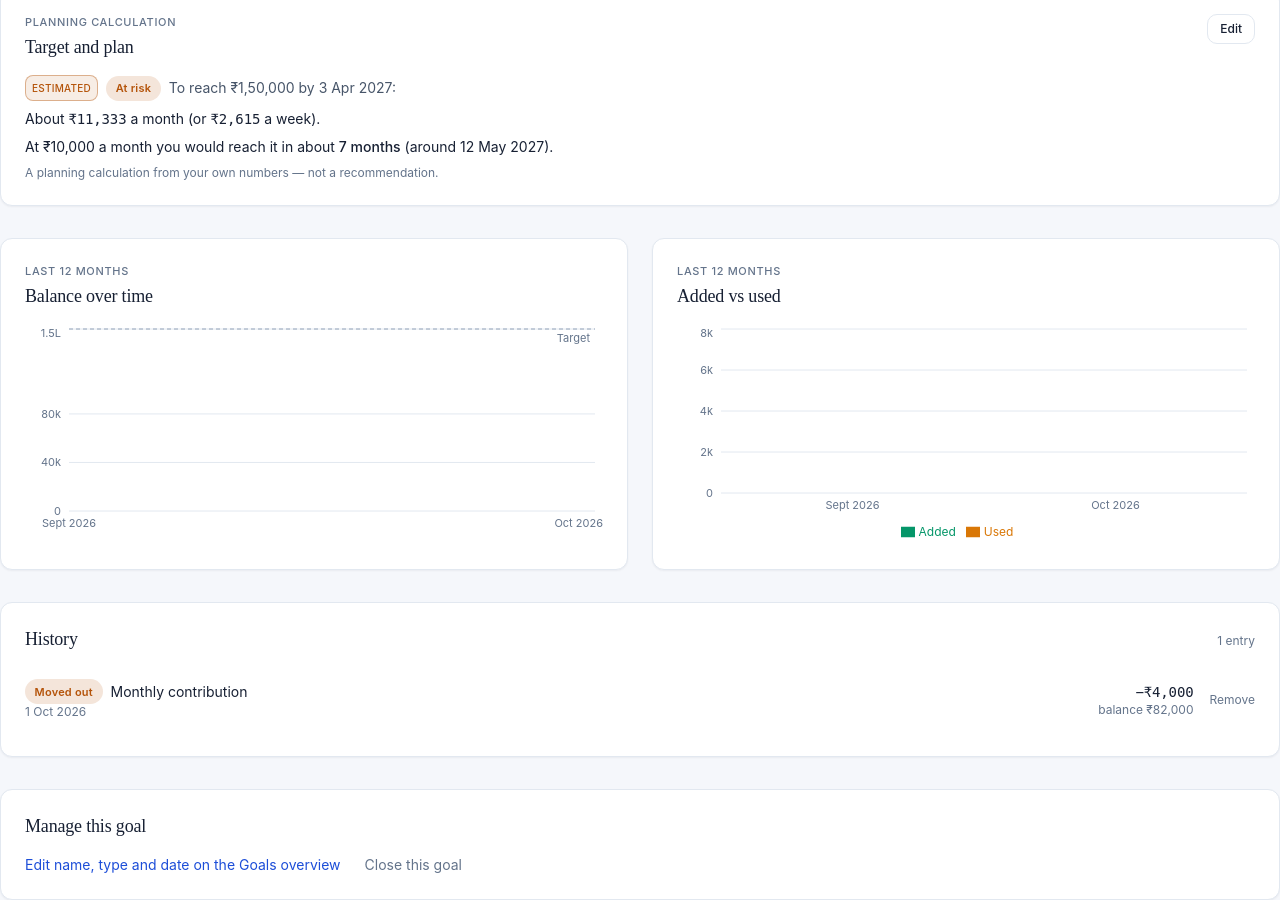
Test: Money → Goals — history › deleting one half of a move says both halves are undone
(page scrolled)
Click the button "Remove" at (1232, 700), box 1210,692 -> 1255,708
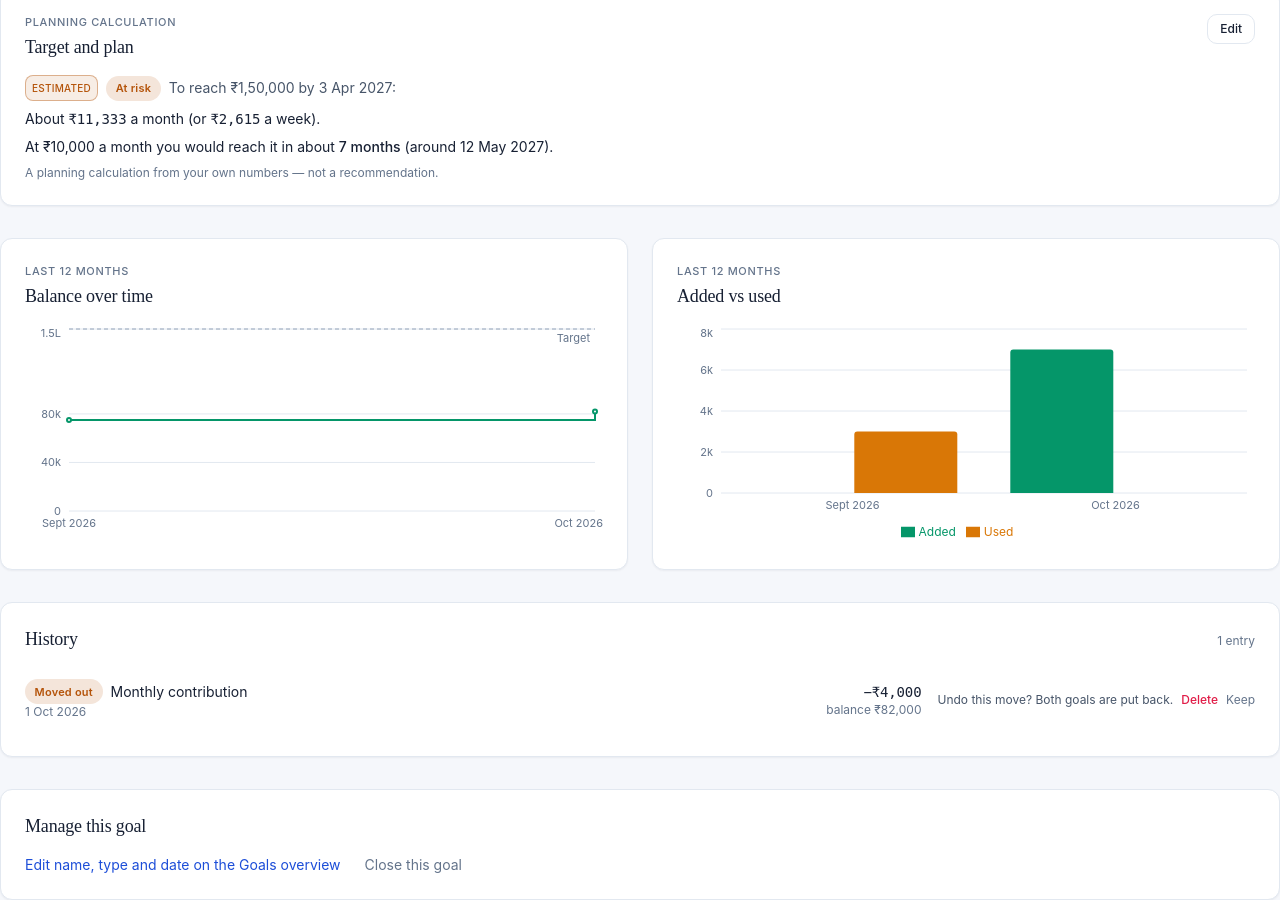
Now the text "Undo this move? Both goals are put back." is shown, box 938,692 -> 1173,708
